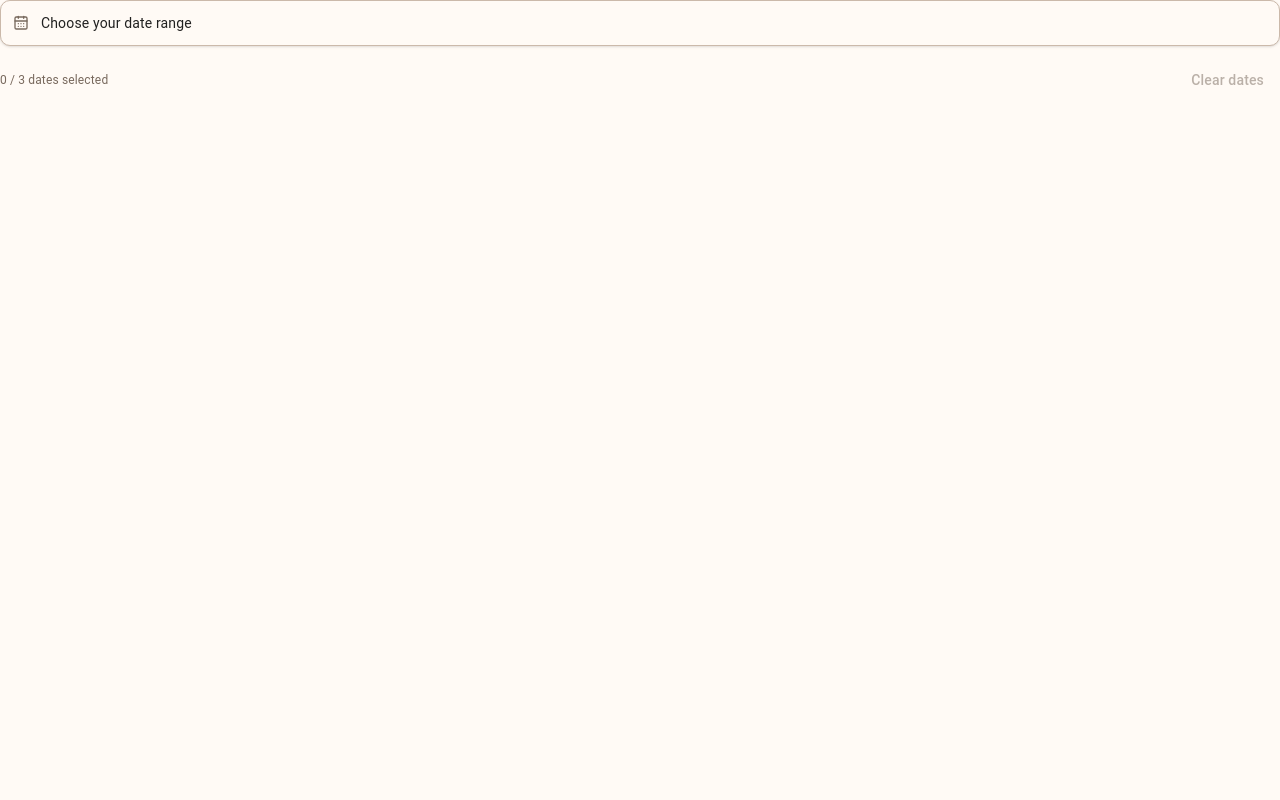
Scenario: planner calendar › disables yesterday while allowing workspace today and leap day
Click the button "Choose your date range" at [116, 23], box [0,0,1279,46]
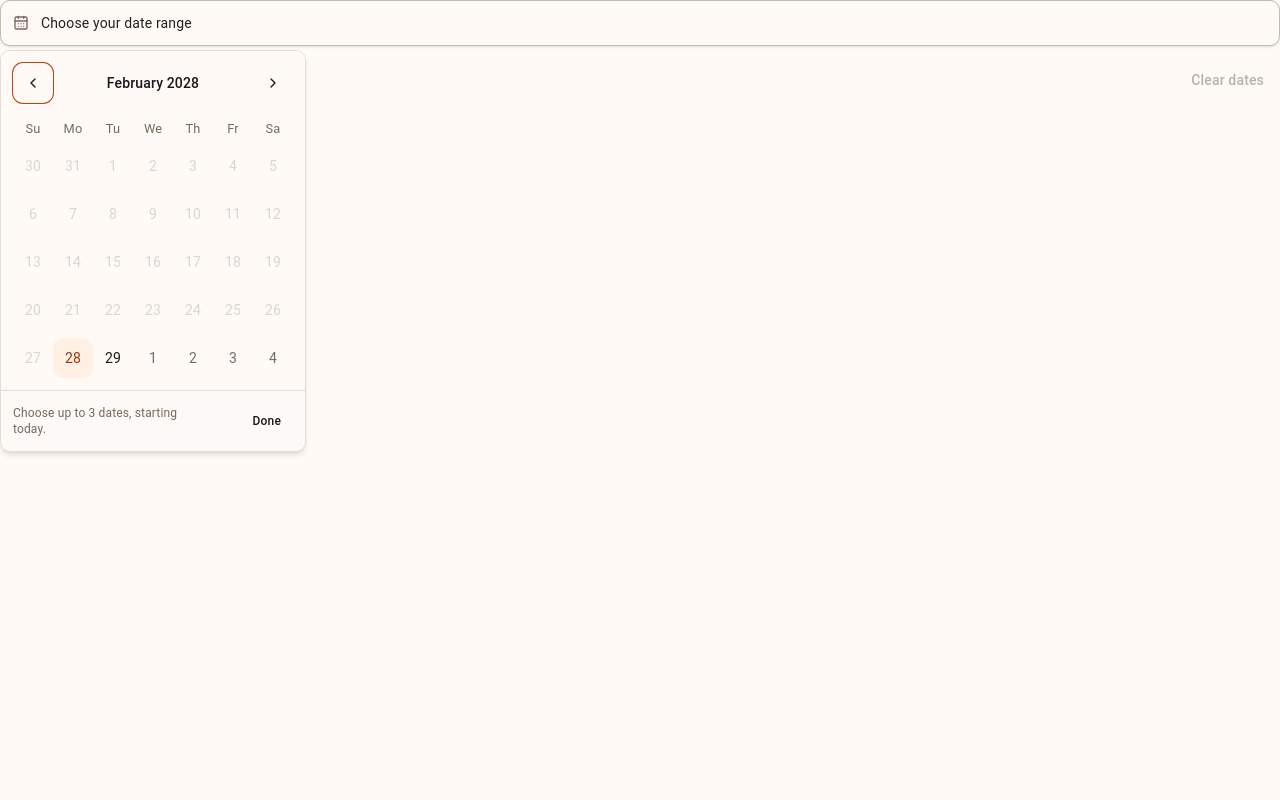
Now the button named "February 27th, 2028" is disabled, box [13,338,53,378]
Click the button named "February 28th, 2028" at [73, 358], box [53,338,93,378]
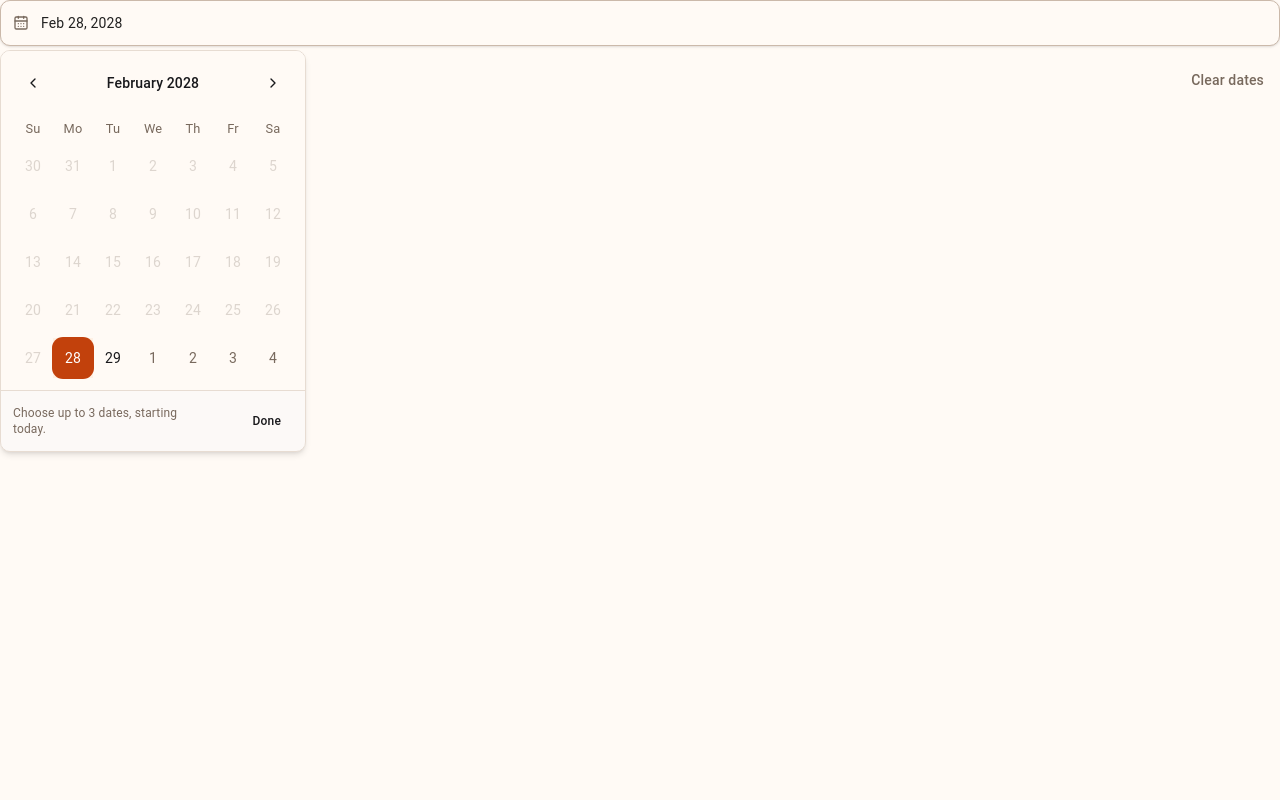
Click the button named "February 29th, 2028" at [113, 358], box [93,338,133,378]
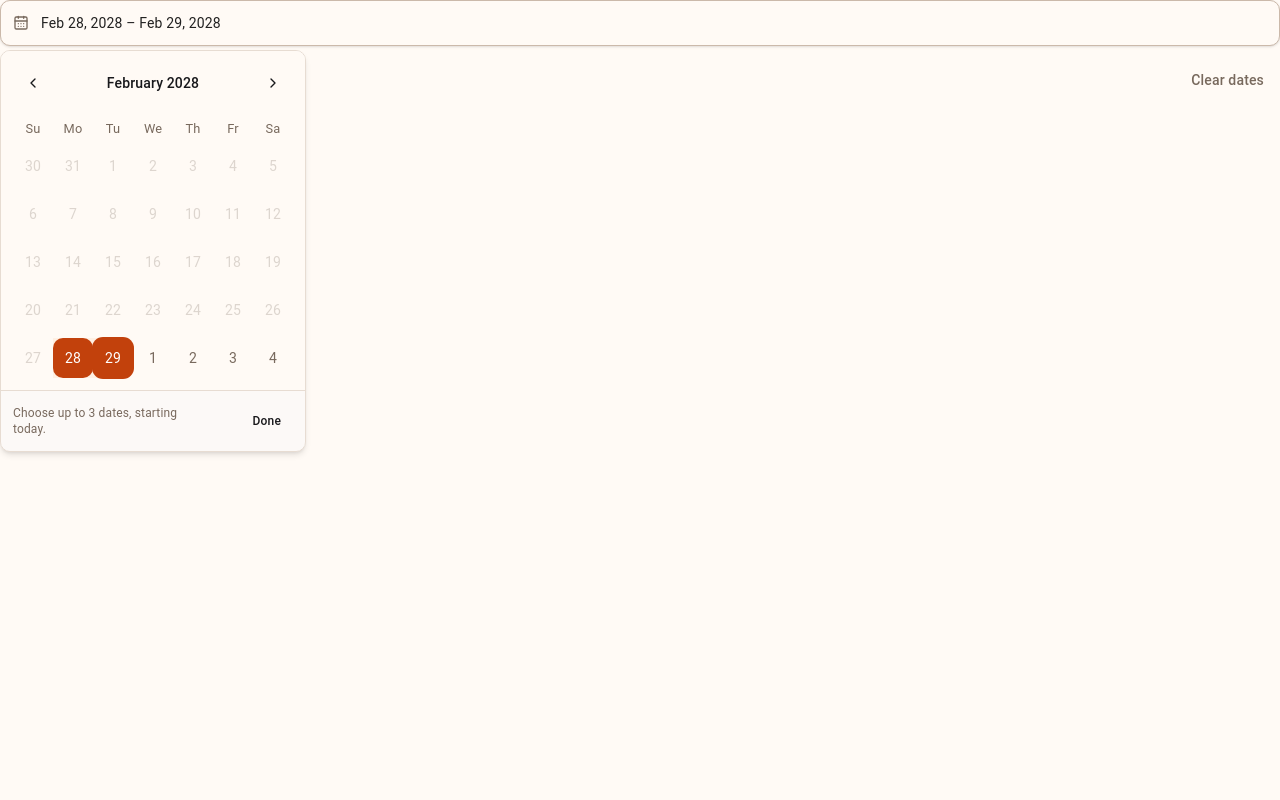
Expected: the text "2 / 3 dates selected" is shown, [0,72,108,88]
Press Escape in the button named "February 29th, 2028", box [93,338,133,378]
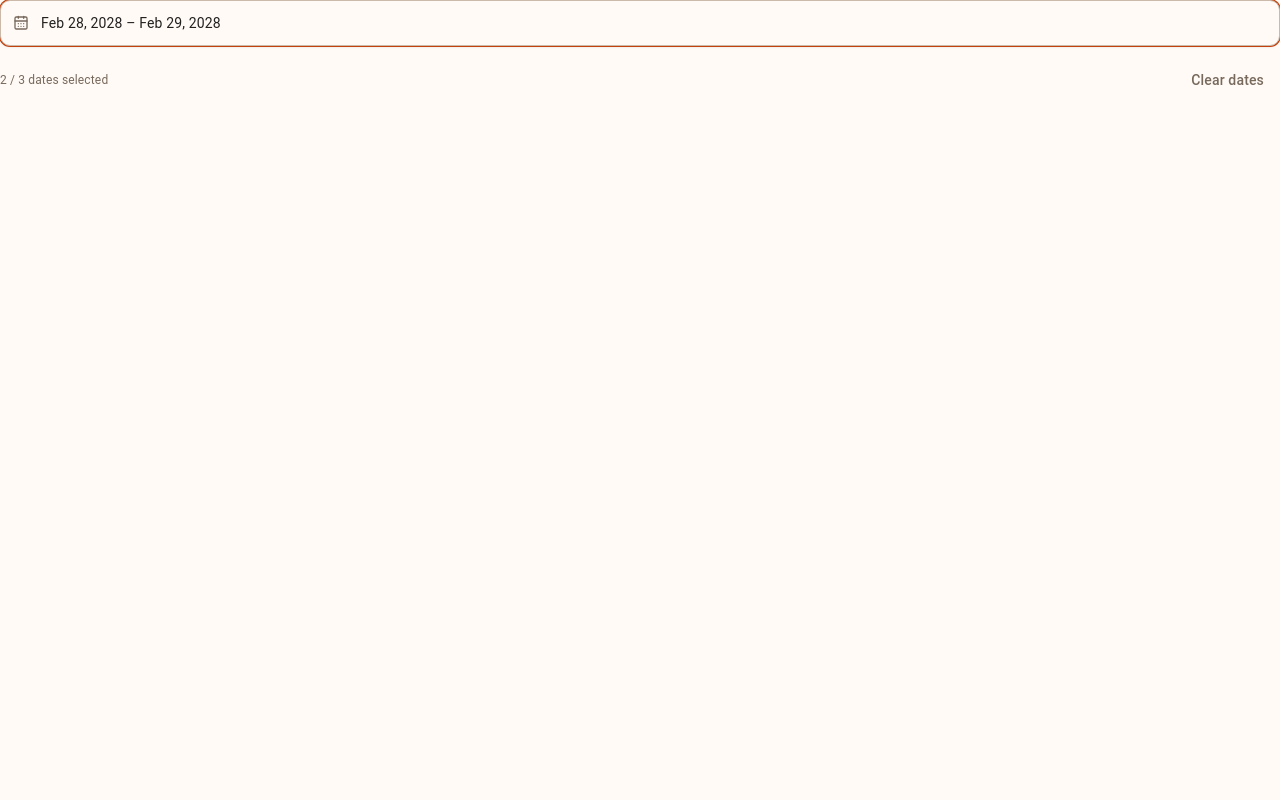
Click the button "Clear dates" at [1228, 80], box [1175,58,1279,102]
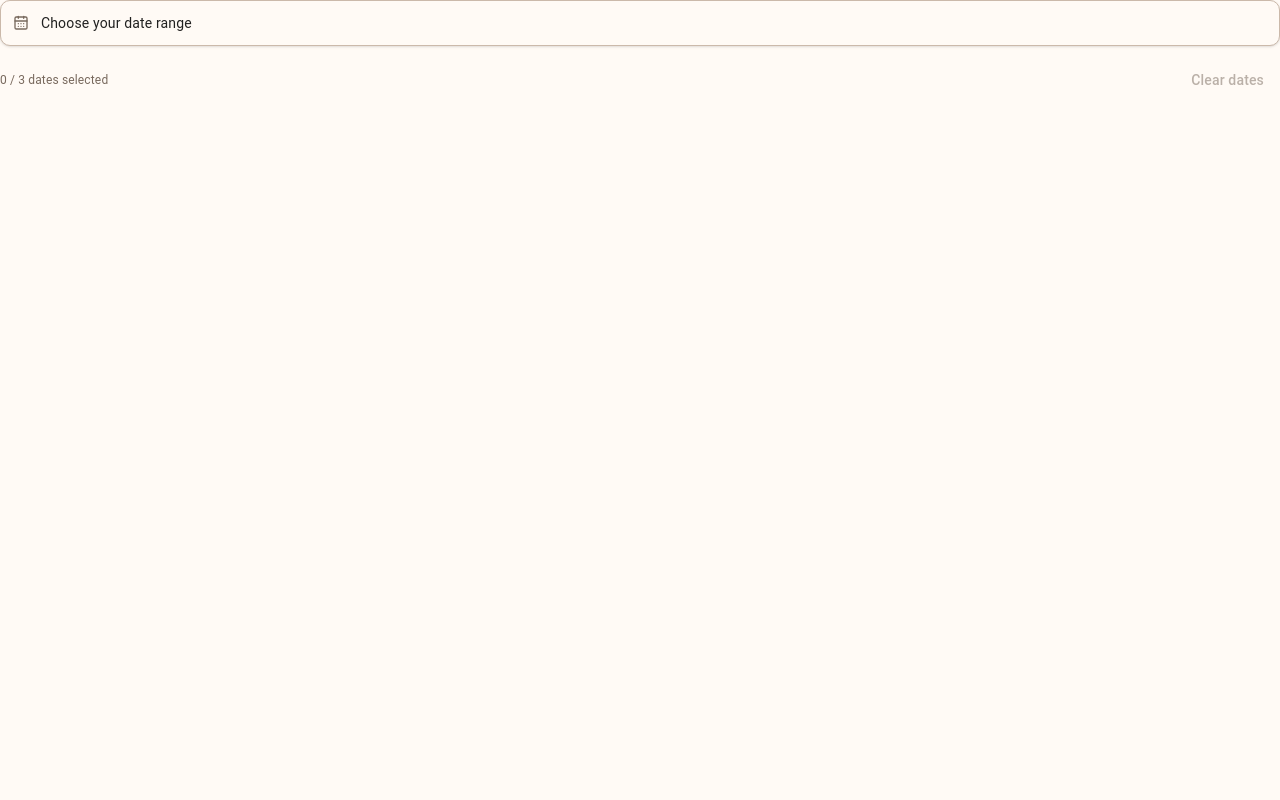
Now the text "0 / 3 dates selected" is shown, box [0,72,108,88]
